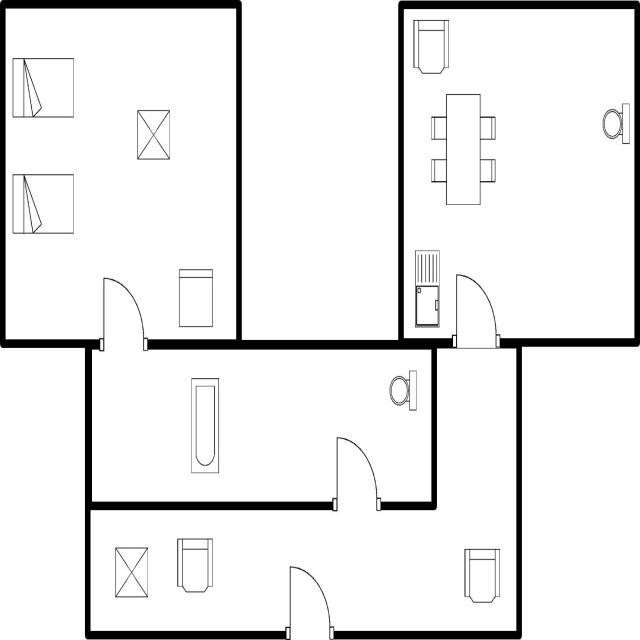armchair: (173, 532, 217, 599), (459, 544, 504, 606), (409, 15, 452, 78)
bed: (8, 52, 78, 123), (9, 167, 78, 239)
coffee_table: (111, 542, 151, 604), (134, 106, 172, 165)
dining_table: (427, 89, 499, 211)
large_sink: (598, 96, 632, 149), (386, 366, 421, 416)
sink: (410, 244, 444, 330)
small_sofa: (175, 264, 216, 331)
tub: (187, 372, 222, 479)
